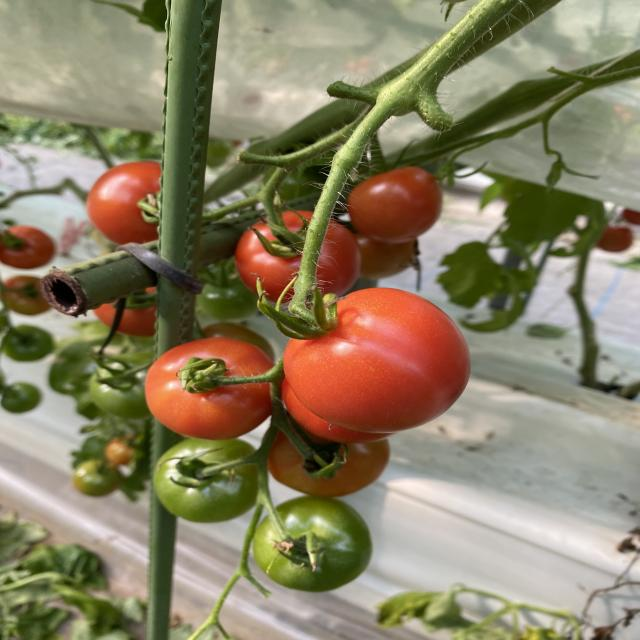c-half-riped: (260, 414, 390, 496)
c-riped: (283, 286, 471, 433), (146, 338, 275, 440), (234, 209, 362, 307), (279, 371, 396, 444), (346, 166, 444, 244), (86, 160, 160, 246), (93, 285, 157, 336)
c-unriped: (252, 496, 374, 592), (151, 436, 259, 524), (91, 355, 155, 419)
